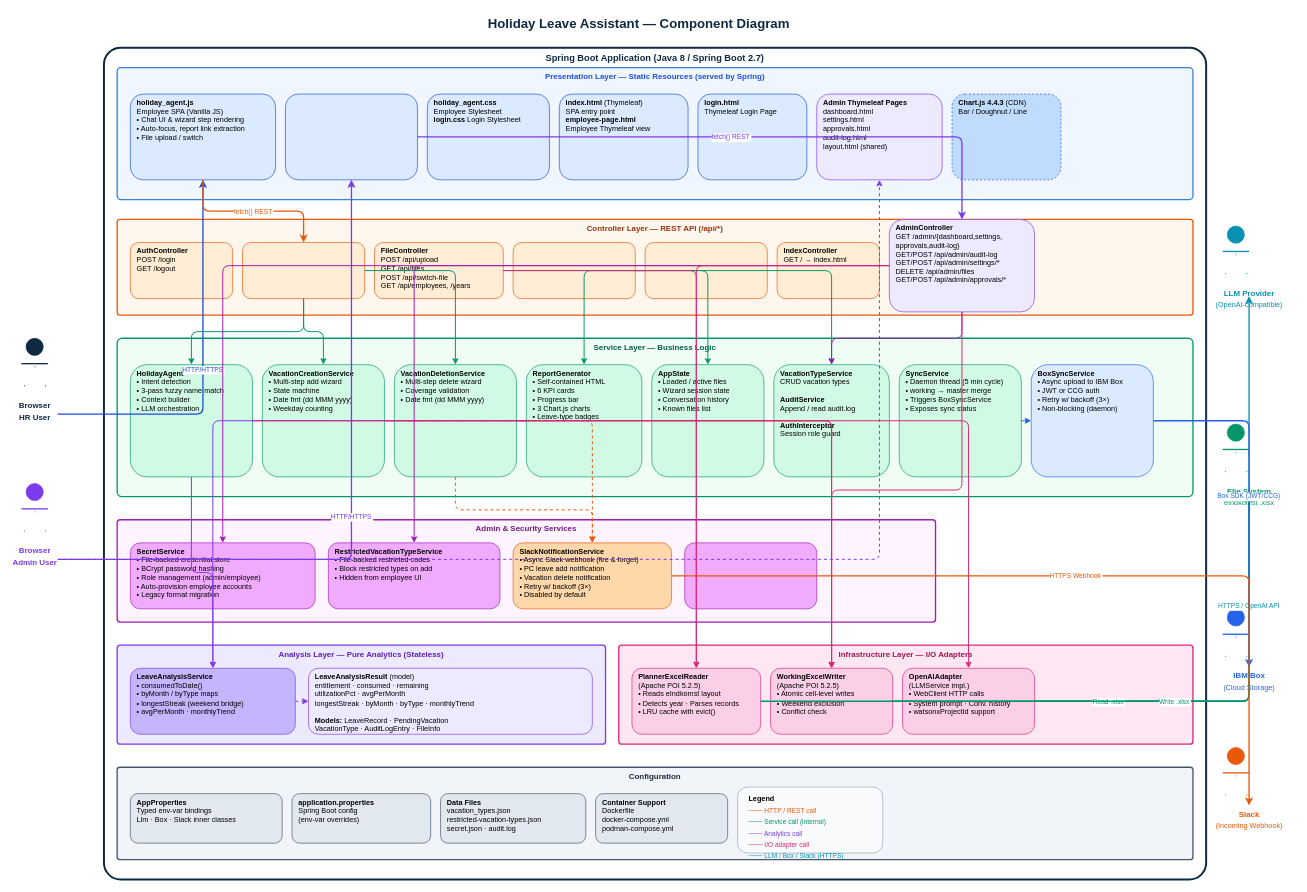
This 1307x892 diagram has some shape labels left out. Here are the shapes that lost their labels. From the top down, the centre of each, then its label:
At point 351,136: "holiday_agent_admin.js Admin SPA (Vanilla JS) • File deletion • Admin chat relay".
At point 303,270: "ChatController POST /api/chat POST /api/clear-history (Wizard dispatch)".
At point 573,270: "VacationController POST/DELETE /api/vacations GET/POST/PUT /api/vacation-types".
At point 705,270: "ReportsController GET /api/reports/{file} GET /api/sync-status".
At point 750,575: "SecurityConfig Spring Security + BCrypt WebConfig AuthInterceptor · CORS/MVC".
